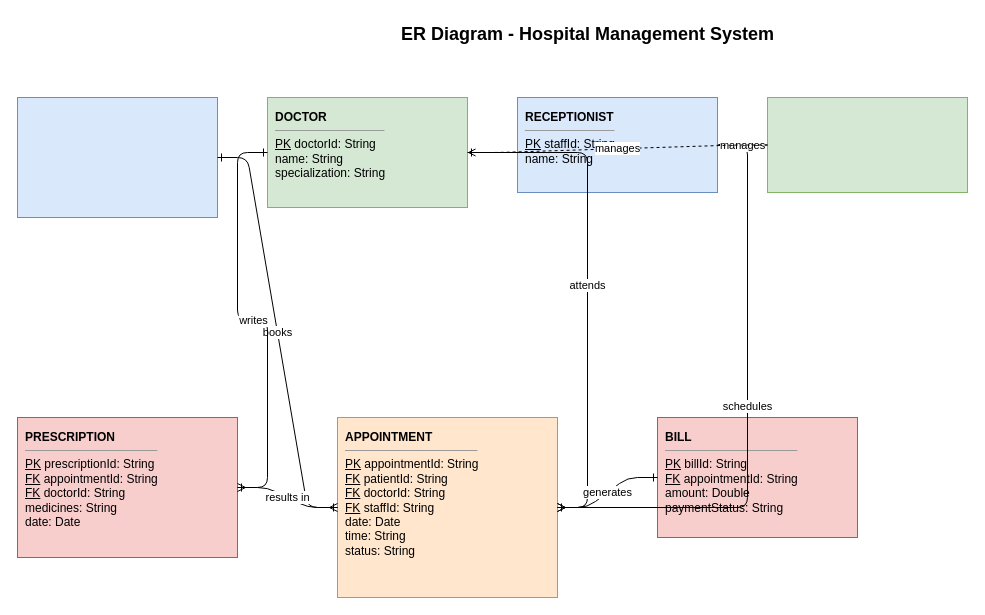
Image size: 985x615. Some labels were removed from this diagram. Here are the shapes that lost their labels. From the top down, the centre of each, then its label:
point 117,157: PATIENT PK patientId: String name: String dob: Date contactNo: String
point 867,144: ADMIN PK adminId: String name: String
